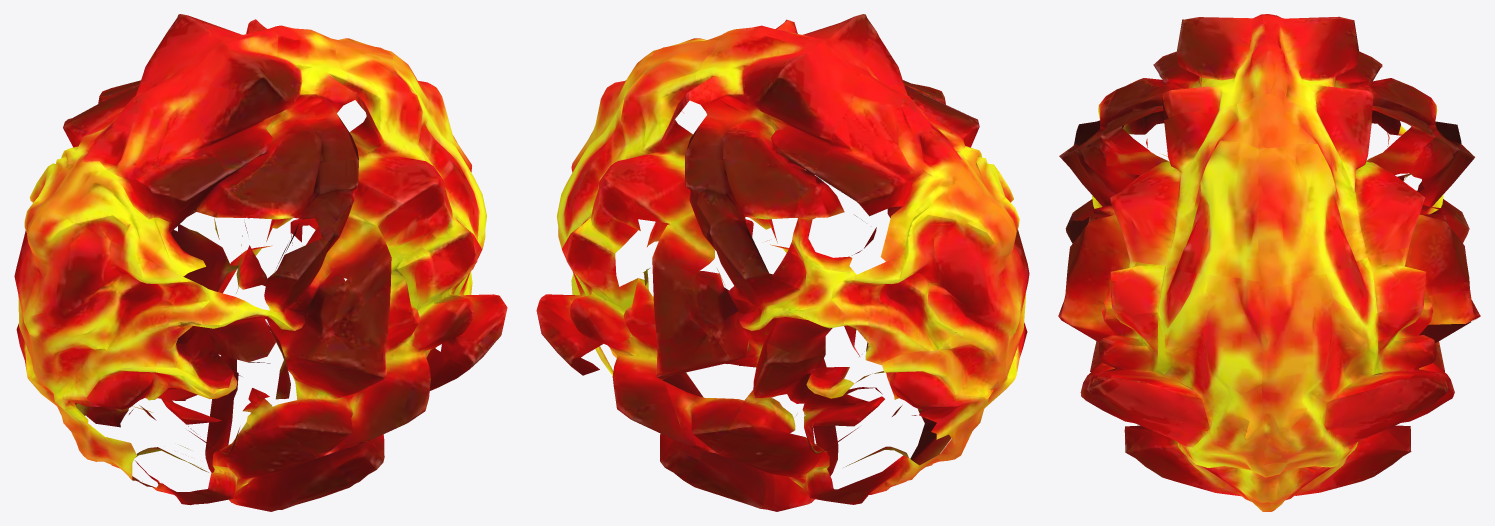
The model's file is fogo.glb.
3 views of the same model, side by side, from view 1: azimuth 30°, elevation 25°; view 2: azimuth 150°, elevation 25°; view 3: azimuth 270°, elevation 25° (orthographic).
Parts seen in each view (by area): view 1: tripo_node_e98a4270-93a5-46d8-9312-223c8ca4723a; view 2: tripo_node_e98a4270-93a5-46d8-9312-223c8ca4723a; view 3: tripo_node_e98a4270-93a5-46d8-9312-223c8ca4723a.
Boxes of the visible parts, left/top/right/bottom form: tripo_node_e98a4270-93a5-46d8-9312-223c8ca4723a: left=14, top=14, right=507, bottom=511; tripo_node_e98a4270-93a5-46d8-9312-223c8ca4723a: left=536, top=14, right=1029, bottom=511; tripo_node_e98a4270-93a5-46d8-9312-223c8ca4723a: left=1058, top=14, right=1480, bottom=511.
Size of the model in its own units: 0.9775 by 0.976 by 0.8072.
Materials: 1 (1 with a texture image).
